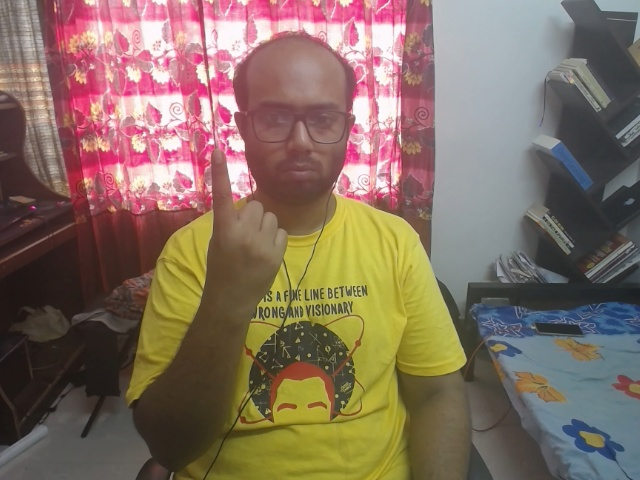one: (169, 138, 326, 332)
